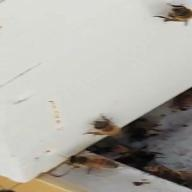Bee: (60, 150, 128, 174), (78, 113, 129, 140), (159, 2, 192, 25)
